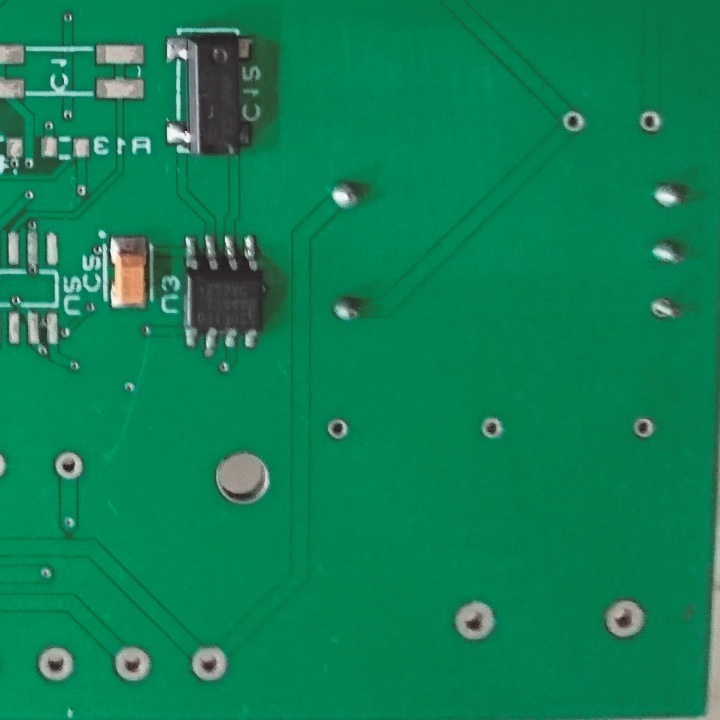F: (451, 597, 496, 643), (602, 597, 646, 640), (36, 642, 76, 686), (113, 646, 154, 686), (189, 643, 229, 684), (50, 449, 84, 487), (647, 294, 680, 328), (324, 414, 350, 444), (634, 109, 663, 135), (477, 413, 503, 441), (559, 109, 585, 135), (632, 416, 656, 441)
